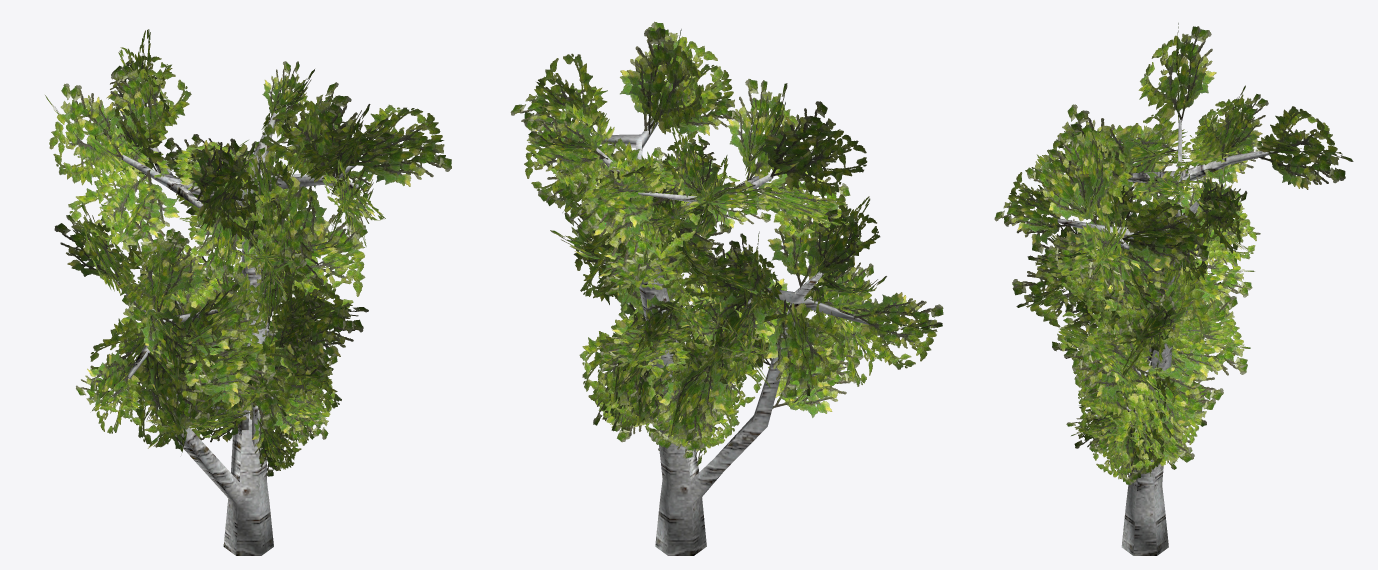
Rendered from Birch Tree.fbx.
3 renders of one model, left to right at view 1: azimuth 30°, elevation 25°; view 2: azimuth 150°, elevation 25°; view 3: azimuth 270°, elevation 25°, orthographic. The views are drawn at different scales.
Visible parts, largest first — view 1: Birch Tree 3, Birch Tree 2, Birch Tree 1; view 2: Birch Tree 3, Birch Tree 2, Birch Tree 1; view 3: Birch Tree 3, Birch Tree 2, Birch Tree 1.
Part boxes in pixels (left/top/right/bottom): Birch Tree 3: left=45, top=29, right=451, bottom=555; Birch Tree 2: left=118, top=228, right=368, bottom=434; Birch Tree 1: left=190, top=321, right=335, bottom=476; Birch Tree 3: left=510, top=21, right=943, bottom=555; Birch Tree 2: left=579, top=231, right=795, bottom=449; Birch Tree 1: left=593, top=306, right=738, bottom=465; Birch Tree 3: left=994, top=23, right=1353, bottom=555; Birch Tree 2: left=1064, top=213, right=1250, bottom=469; Birch Tree 1: left=1066, top=355, right=1192, bottom=484.
Bounding box in the file's own units: 5.03 × 5.81 × 4.29.
2 materials, 2 textured.
